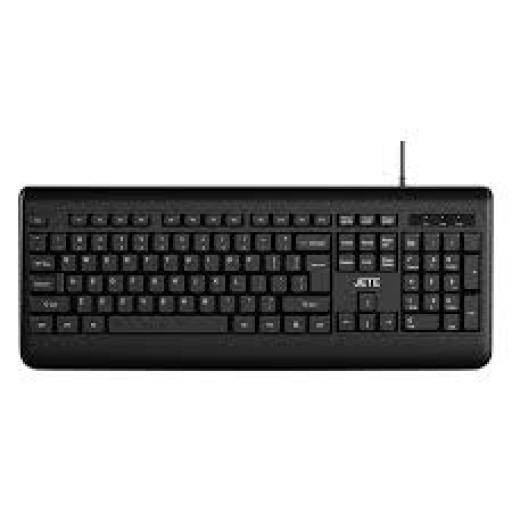KEYBOARD-2: (18, 187, 492, 366)
